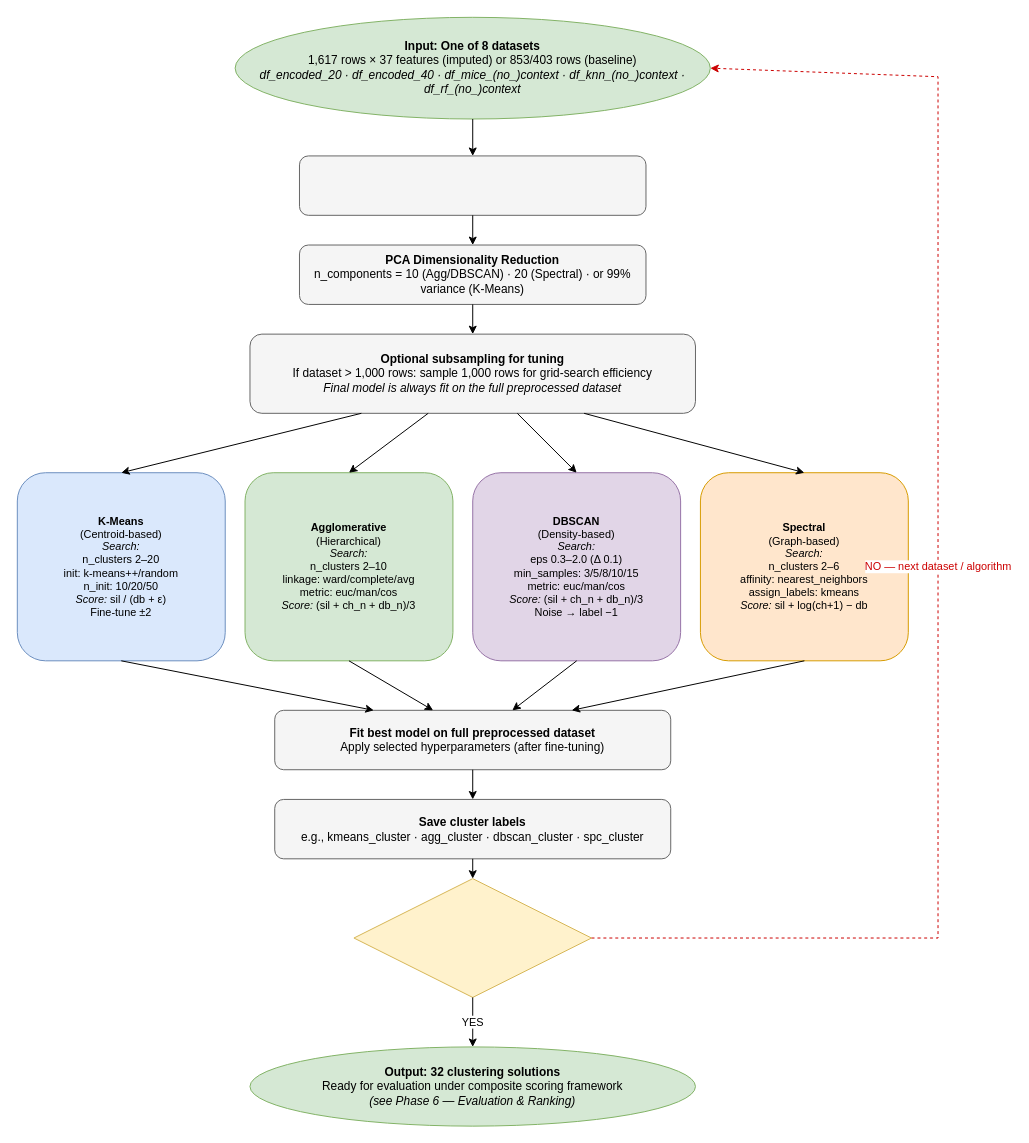
Image size: 1029x1143. Some labels were removed from this diagram. Each missing label, with the box of its shape:
All 32 pipelines done? (8 datasets × 4 algorithms): (353, 878, 592, 997)
Standardisation StandardScaler (mean = 0, std = 1) on numerical columns: (298, 155, 646, 215)
